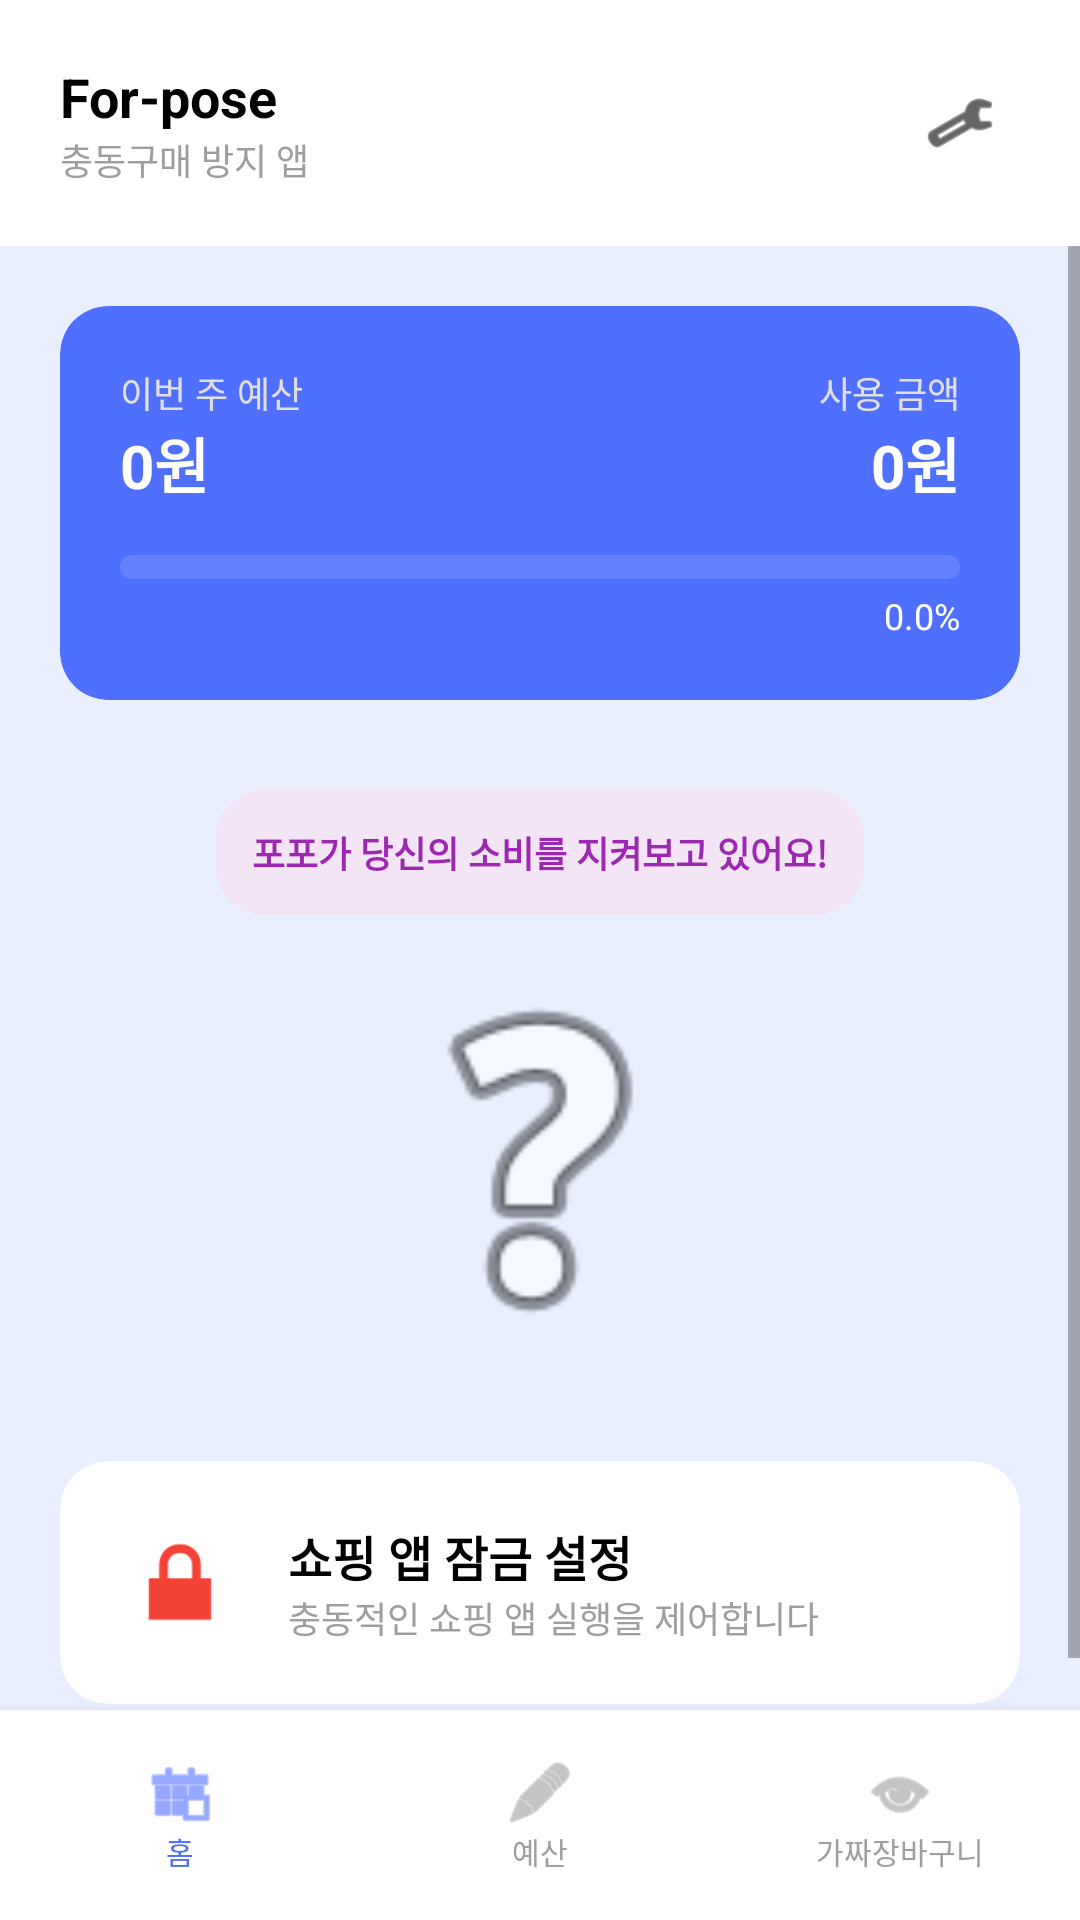

Named icons in this screenshot (1080x1920) and their centers, (x,y):
edit: (540,1792)
help: (540,1161)
lock: (180,1582)
preferences: (959,123)
today: (180,1794)
view: (900,1795)
